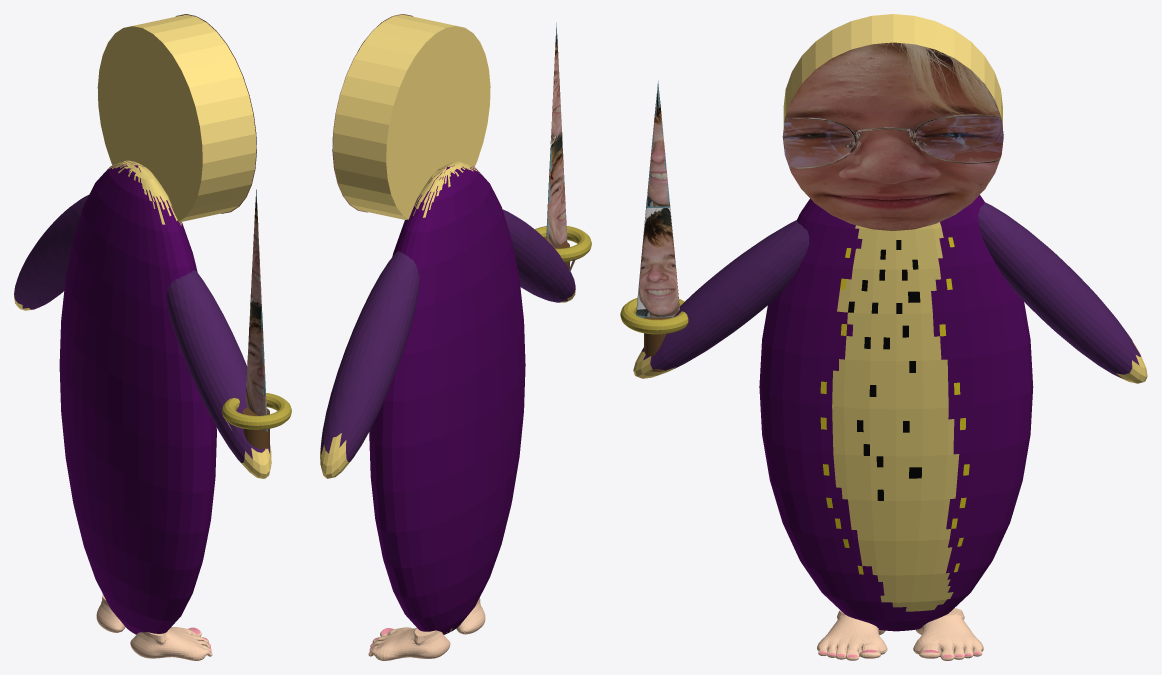
File: Larsmedsverdblend1.glb
The picture shows the model from 3 angles, left to right: view 1: azimuth 30°, elevation 25°; view 2: azimuth 150°, elevation 25°; view 3: azimuth 270°, elevation 25°; orthographic projection. The views are drawn at different scales.
Visible parts, largest first — view 1: Sphere, Cylinder, Sphere.001, Cone, Sphere.002, node_id5, node_id8; view 2: Sphere, Cylinder, Sphere.002, Sphere.001, Cone, node_id8, node_id5; view 3: Sphere, Lars_briller, Sphere.002, Sphere.001, Cone, Cylinder, node_id8, node_id5.
Boxes of the visible parts, left/top/right/bottom form: Sphere: left=59, top=160, right=216, bottom=634; Cylinder: left=97, top=14, right=256, bottom=221; Sphere.001: left=166, top=270, right=271, bottom=478; Cone: left=222, top=189, right=291, bottom=448; Sphere.002: left=14, top=195, right=88, bottom=310; node_id5: left=130, top=627, right=212, bottom=660; node_id8: left=96, top=594, right=125, bottom=632; Sphere: left=369, top=161, right=525, bottom=634; Cylinder: left=333, top=14, right=490, bottom=219; Sphere.002: left=320, top=251, right=419, bottom=478; Sphere.001: left=502, top=209, right=575, bottom=302; Cone: left=535, top=22, right=591, bottom=268; node_id8: left=368, top=627, right=450, bottom=660; node_id5: left=456, top=597, right=485, bottom=634; Sphere: left=759, top=195, right=1033, bottom=631; Lars_briller: left=782, top=42, right=1003, bottom=230; Sphere.002: left=978, top=202, right=1147, bottom=383; Sphere.001: left=633, top=220, right=809, bottom=378; Cone: left=620, top=80, right=688, bottom=371; Cylinder: left=783, top=14, right=1002, bottom=127; node_id8: left=913, top=608, right=983, bottom=660; node_id5: left=817, top=610, right=887, bottom=660.
Bounding box in the file's own units: 0.974 × 5.11 × 3.85.
17 materials, 4 textured.
